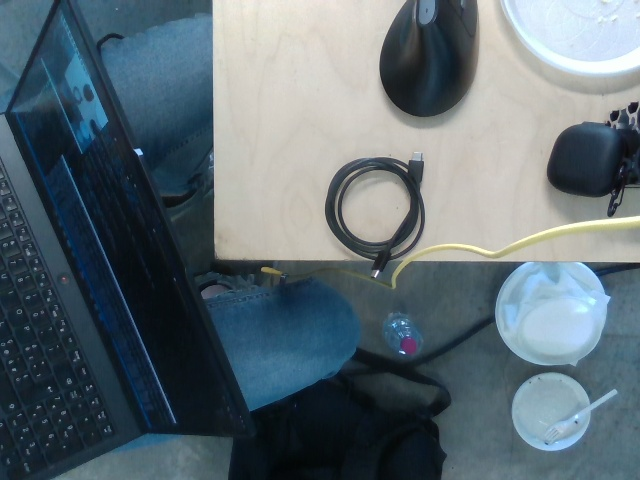cube_hackaton: (547, 110, 621, 203)
